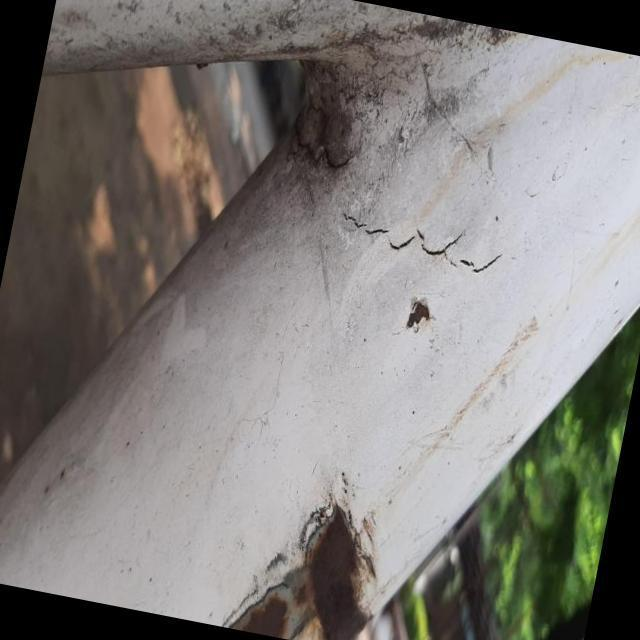defect: (337, 210, 509, 281)
